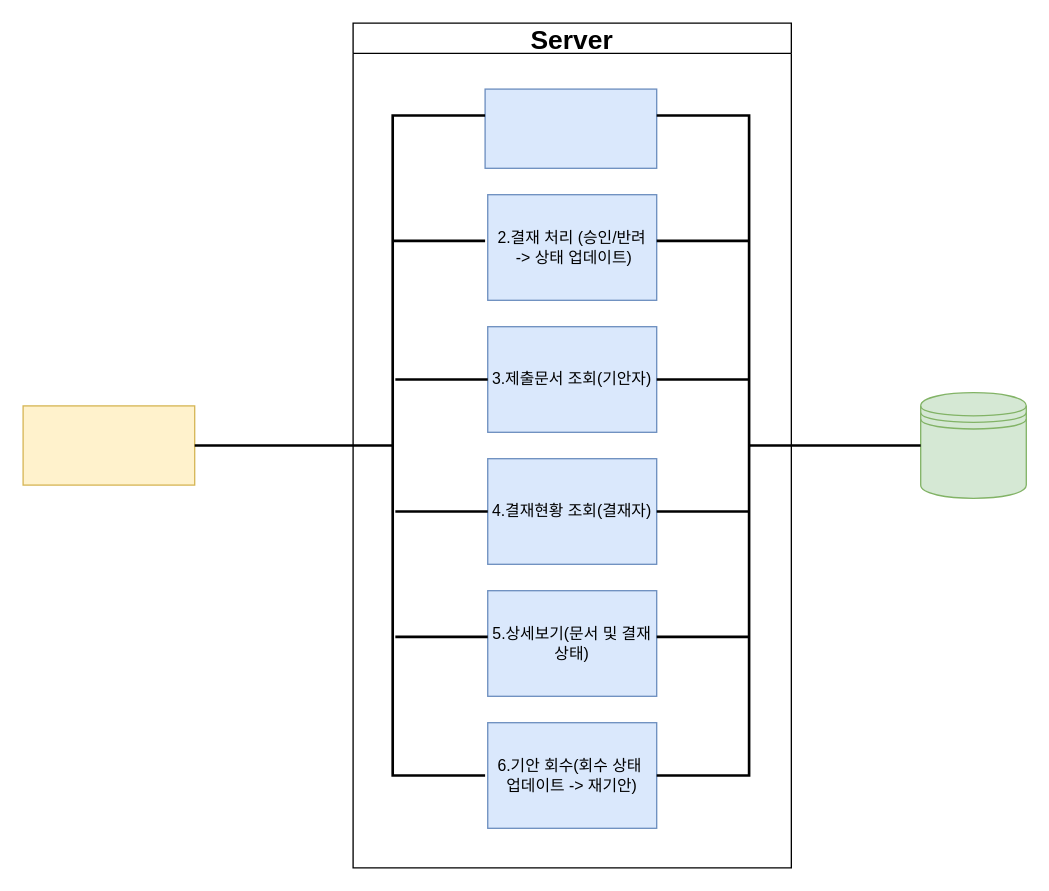
Some shapes in this 1049 by 891 pixel diagram are drawn without their labels. The centre of each missing label's shape, as x and y in pixels:
1.문서 등록(결재 요청): the point at 570,128
Client: the point at 108,445
DB: the point at 972,444
